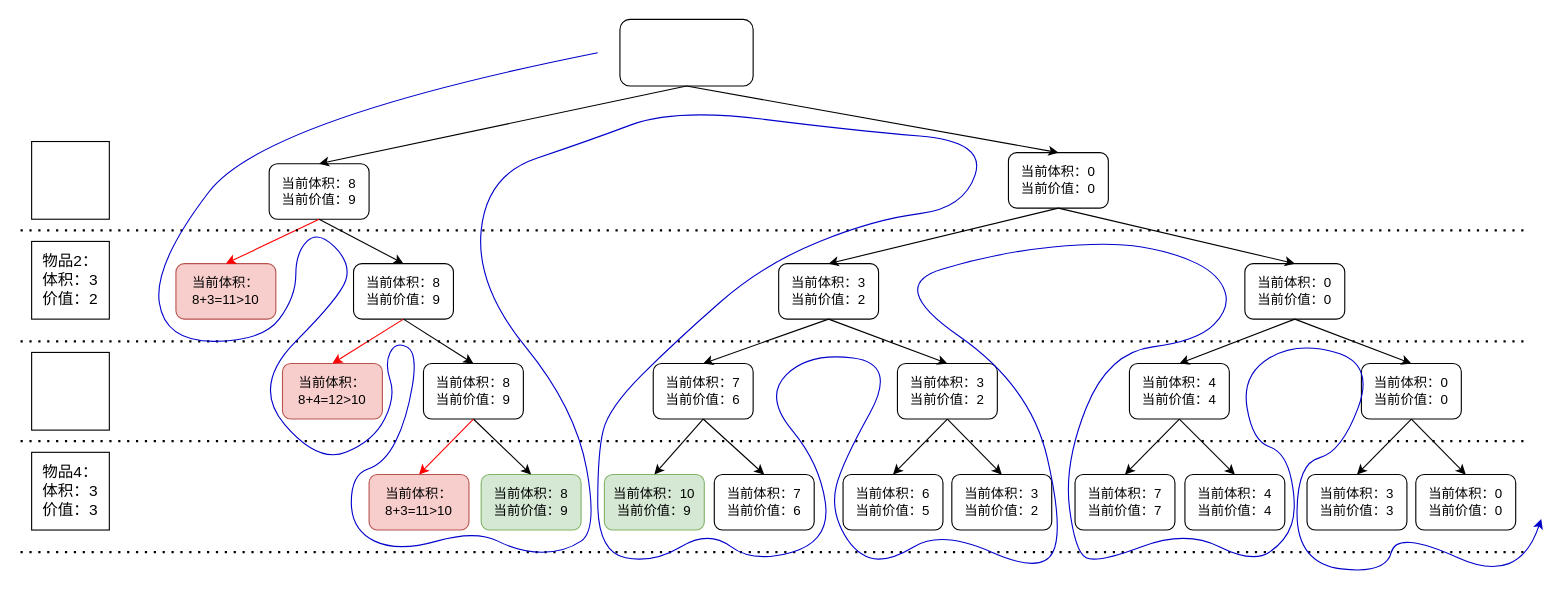
Some shapes in this 1562 by 589 pixel diagram are drawn without their labels. The box of each missing label's shape, as (x1, y1, x2, y2) in pixels:
物品0: (619, 18, 753, 86)
物品1： 体积：8 价值：9: (31, 140, 109, 219)
物品3： 体积：4 价值：4: (31, 351, 109, 430)
